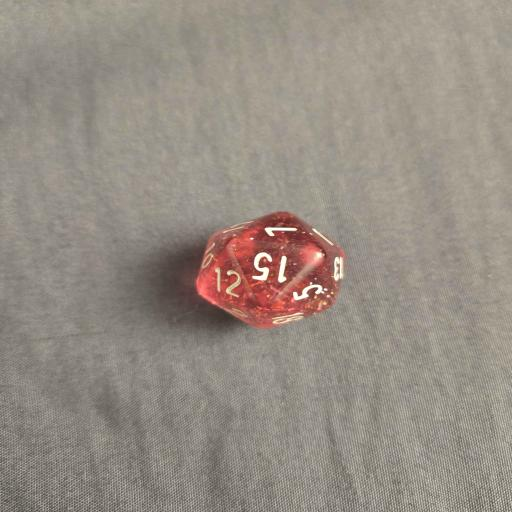twenty sided dice: (195, 211, 345, 329)
